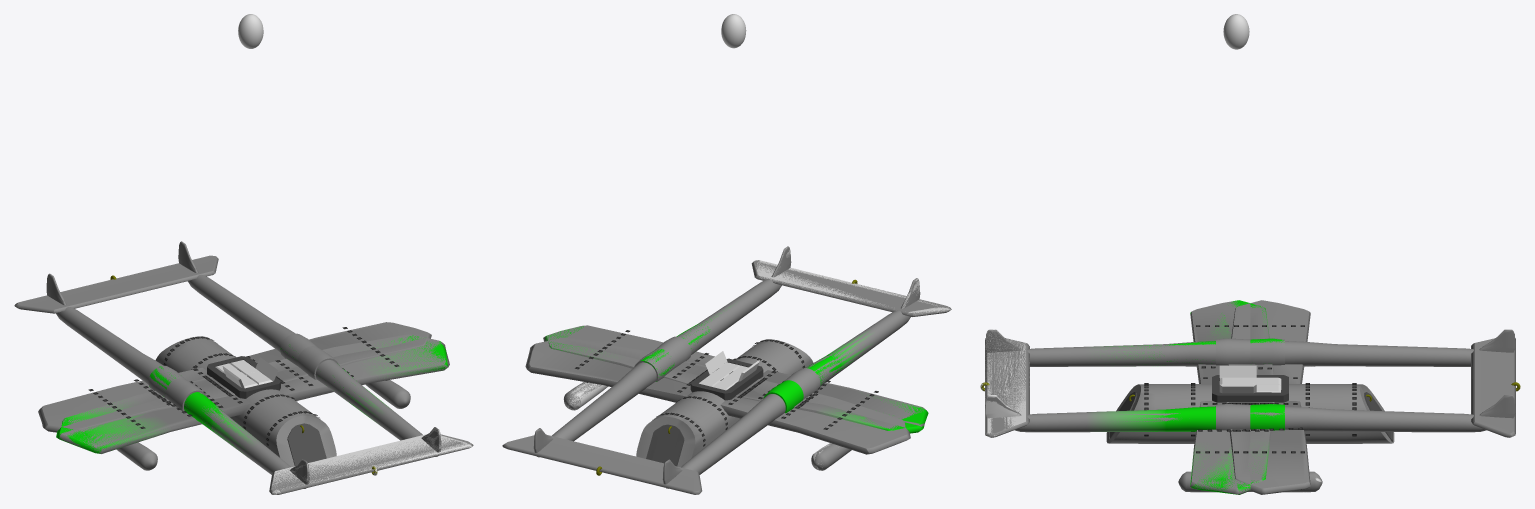
Rendered from PlaneOpen_2_TetherObsOpen_v2.1.fbx.
The picture shows the model from 3 angles, left to right: view 1: azimuth 30°, elevation 25°; view 2: azimuth 150°, elevation 25°; view 3: azimuth 270°, elevation 25°; orthographic projection. The views are drawn at different scales.
Visible parts, largest first — view 1: Unwrapped_parts, Unwrapped_parts_quad, Wings, Plane_Main_quad, Tail_Wing, Plane_Main, Engine_2, Plane_Body_New, Rear_Door_quad, Engine_1, Beach_ball_quad, Bolts_Merged (+1 smaller); view 2: Unwrapped_parts, Unwrapped_parts_quad, Plane_Main, Plane_Main_quad, Engine_2, Wings, Tail_Wing, Rear_Door, Beach_ball_quad, Bolts_Merged, Pod_1, Engine_1 (+2 smaller); view 3: Unwrapped_parts, Unwrapped_parts_quad, Engine_1, Plane_Main, Plane_Main_quad, Wings, Tail_Wing, Plane_Body_New, Engine_2, Beach_ball_quad, Bolts_Merged_quad.
Boxes of the visible parts, x1,y1,x2,y2 form: Unwrapped_parts: (14, 255, 431, 470); Unwrapped_parts_quad: (59, 333, 473, 494); Wings: (56, 335, 447, 453); Plane_Main_quad: (219, 365, 441, 484); Tail_Wing: (269, 434, 472, 494); Plane_Main: (46, 241, 264, 383); Engine_2: (149, 366, 304, 488); Plane_Body_New: (237, 389, 336, 466); Rear_Door_quad: (287, 423, 326, 466); Engine_1: (280, 344, 436, 456); Beach_ball_quad: (238, 14, 263, 48); Bolts_Merged: (88, 327, 379, 414); Unwrapped_parts: (502, 336, 910, 494); Unwrapped_parts_quad: (543, 260, 951, 470); Plane_Main: (533, 368, 750, 484); Plane_Main_quad: (706, 246, 920, 390); Engine_2: (763, 313, 909, 413); Wings: (545, 326, 928, 433); Tail_Wing: (756, 260, 951, 314); Rear_Door: (646, 424, 684, 466); Beach_ball_quad: (721, 14, 746, 48); Bolts_Merged: (575, 344, 858, 446); Pod_1: (565, 382, 607, 409); Engine_1: (640, 279, 780, 381); Unwrapped_parts: (1178, 300, 1515, 494); Unwrapped_parts_quad: (985, 301, 1322, 494); Engine_1: (996, 404, 1284, 432); Plane_Main: (1239, 329, 1520, 443); Plane_Main_quad: (981, 329, 1264, 443); Wings: (1190, 300, 1271, 494); Tail_Wing: (985, 338, 1029, 436); Plane_Body_New: (1107, 384, 1211, 443); Engine_2: (1027, 338, 1284, 366); Beach_ball_quad: (1223, 14, 1249, 49); Bolts_Merged_quad: (1144, 325, 1273, 453).
Bounding box in the file's own units: 1108 × 1140 × 1318.
